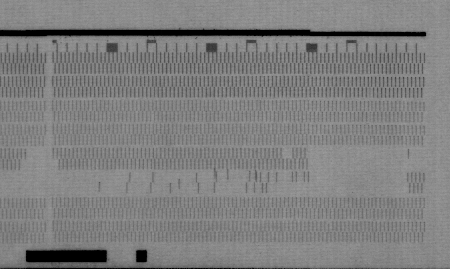Broken hole: (2, 170, 413, 200), (304, 144, 427, 174), (20, 148, 60, 173), (279, 145, 293, 161)
